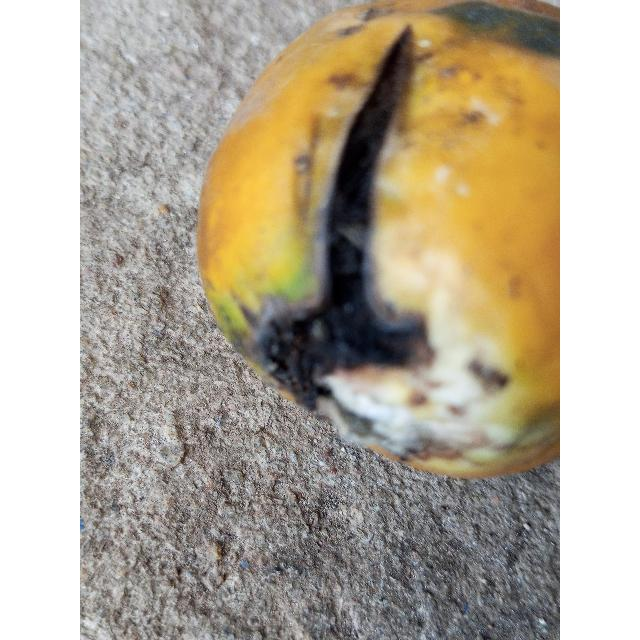damaged: (196, 0, 560, 482)
